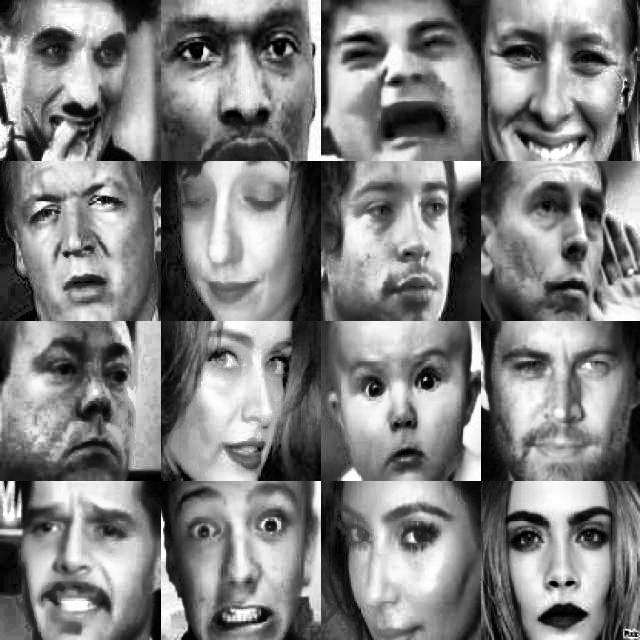angry: (13, 495, 144, 638)
fear: (164, 5, 318, 161), (171, 489, 307, 640), (9, 9, 138, 155), (337, 331, 466, 474)
happy: (487, 6, 639, 155), (178, 322, 300, 476), (330, 495, 454, 639), (496, 495, 619, 639), (494, 335, 622, 469)
neutral: (326, 164, 468, 320), (9, 162, 146, 316), (490, 167, 612, 313), (15, 337, 139, 479), (176, 164, 293, 310)
sad: (327, 14, 478, 160)
